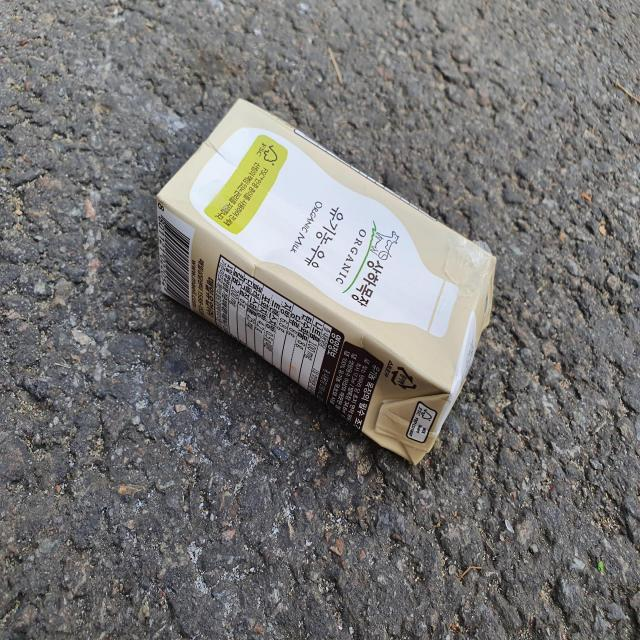paperpack: (156, 98, 497, 465)
